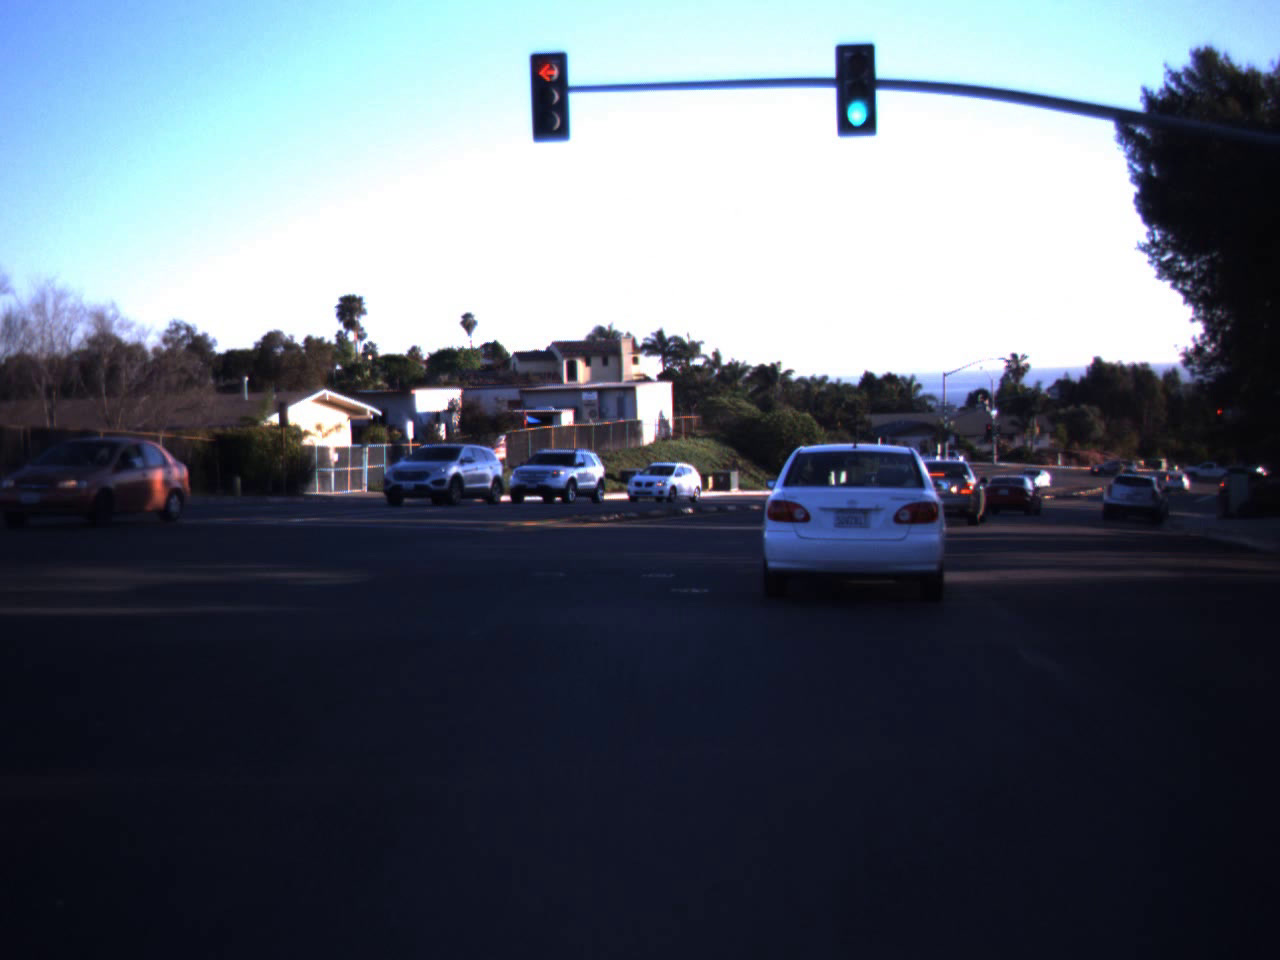go: (830, 21, 884, 136)
stop: (525, 56, 570, 128), (1214, 408, 1226, 426)
